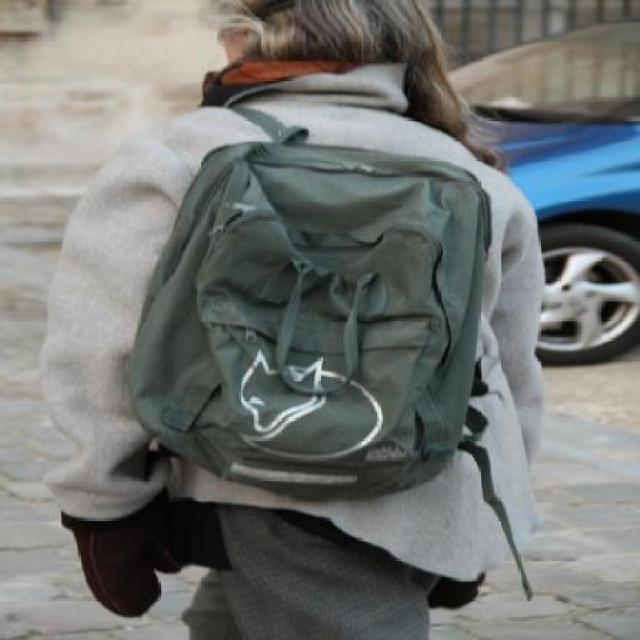backpack: (120, 137, 498, 497)
